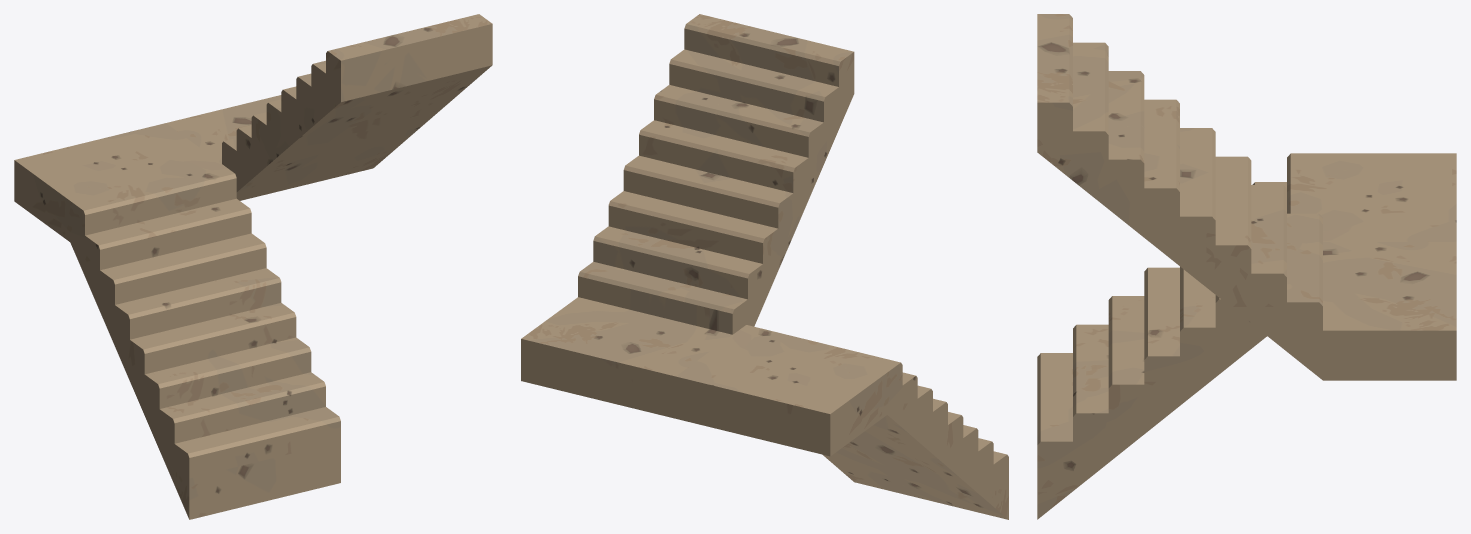
Rendered from SM_Bld_Base_Stairs_02.fbx.
3 renders of one model, left to right at view 1: azimuth 30°, elevation 25°; view 2: azimuth 150°, elevation 25°; view 3: azimuth 270°, elevation 25°, orthographic. The views are drawn at different scales.
Parts seen in each view (by area): view 1: SM_Bld_Base_Stairs_02; view 2: SM_Bld_Base_Stairs_02; view 3: SM_Bld_Base_Stairs_02.
Boxes of the visible parts, bbox=[...] form: SM_Bld_Base_Stairs_02: bbox=[14, 14, 492, 519]; SM_Bld_Base_Stairs_02: bbox=[521, 14, 1008, 519]; SM_Bld_Base_Stairs_02: bbox=[1037, 14, 1456, 519].
Bounding box in the file's own units: 250 × 333 × 250.
